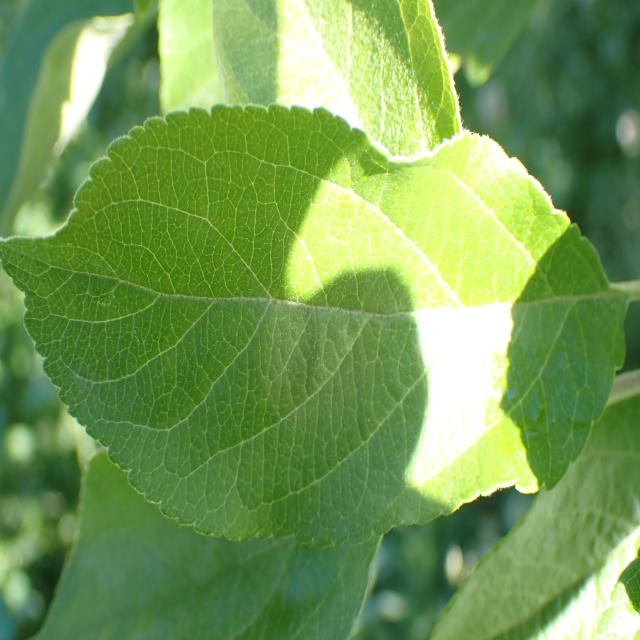healthy: (1, 103, 628, 547), (29, 447, 383, 639), (426, 388, 640, 640), (209, 0, 463, 162)
